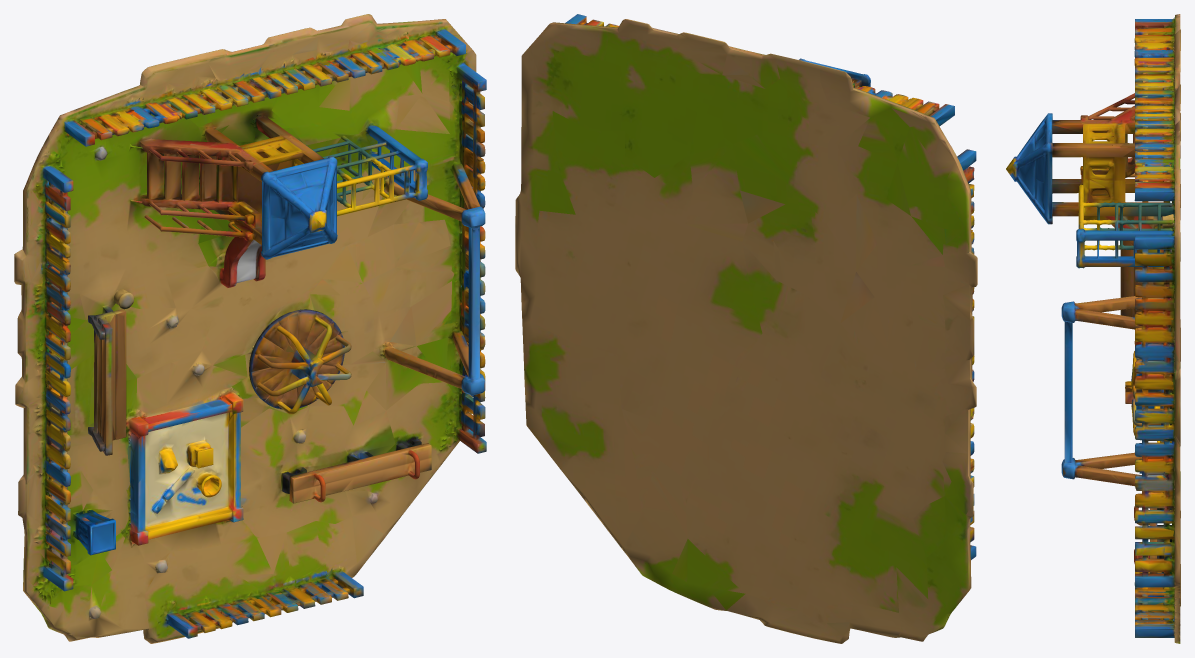
The model's file is detskaya_ploshadka.glb.
The picture shows the model from 3 angles, left to right: view 1: azimuth 30°, elevation 25°; view 2: azimuth 150°, elevation 25°; view 3: azimuth 270°, elevation 25°; orthographic projection. The views are drawn at different scales.
Parts seen in each view (by area): view 1: detskaya_ploshadka; view 2: detskaya_ploshadka; view 3: detskaya_ploshadka.
Boxes of the visible parts, bbox=[...] form: detskaya_ploshadka: bbox=[14, 14, 486, 643]; detskaya_ploshadka: bbox=[515, 14, 977, 643]; detskaya_ploshadka: bbox=[1006, 14, 1180, 643].
Size of the model in its own units: 8.06 by 9.57 by 2.8.
1 material, 1 textured.
